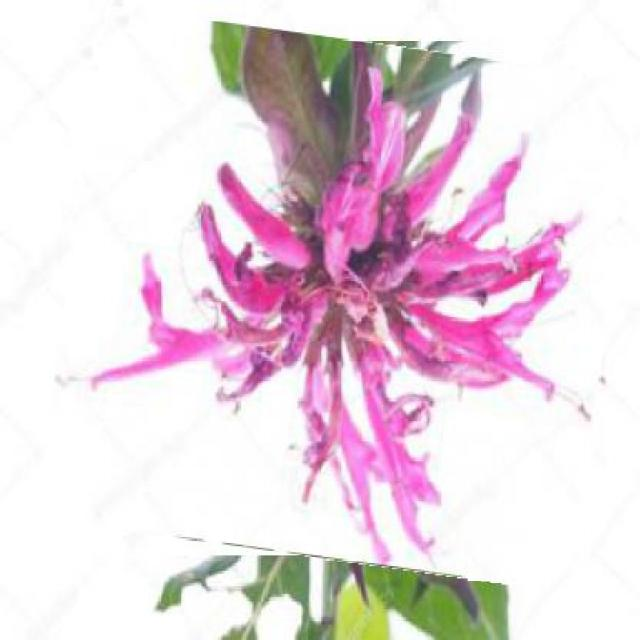Flower: (52, 23, 625, 575)
